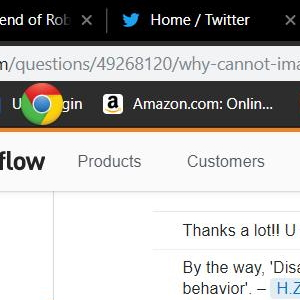chrome: (20, 82, 64, 125)
